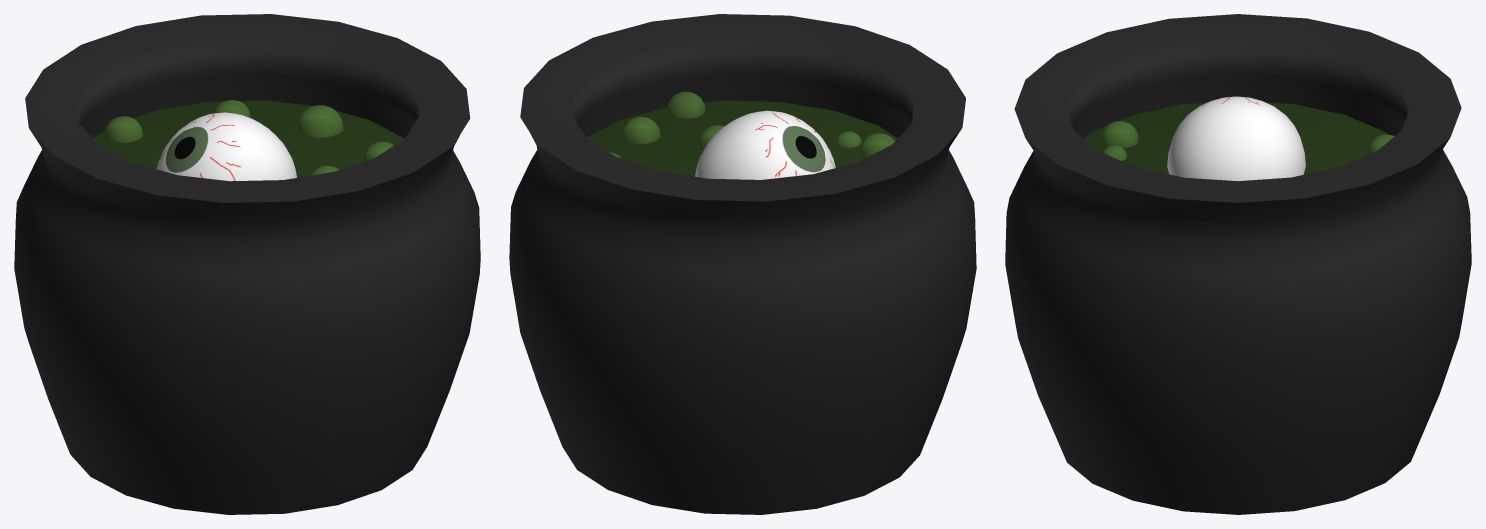
Rendered from Cauldron Soup.fbx.
The picture shows the model from 3 angles, left to right: view 1: azimuth 30°, elevation 25°; view 2: azimuth 150°, elevation 25°; view 3: azimuth 270°, elevation 25°; orthographic projection.
Visible parts, largest first — view 1: pCylinder59; view 2: pCylinder59; view 3: pCylinder59.
Part boxes in pixels (bbox=[...]): pCylinder59: bbox=[14, 14, 480, 514]; pCylinder59: bbox=[509, 14, 976, 514]; pCylinder59: bbox=[1005, 14, 1471, 514].
Bounding box in the file's own units: 2.29 × 1.79 × 2.29.
Materials: 4 (1 with a texture image).
